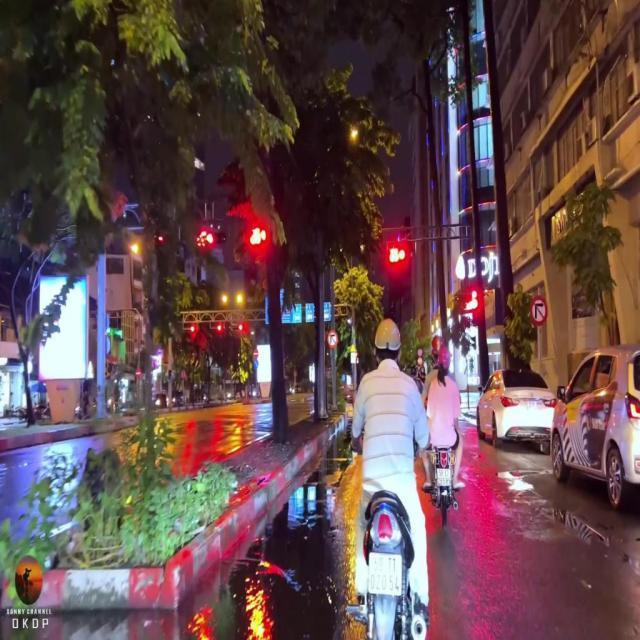102-cam-di-nguoc-chieu: (135, 368, 141, 378), (253, 350, 259, 358)
123b-cam-re-phai: (528, 296, 548, 326), (327, 331, 339, 349)
302a-huong-phai-di-vong-chuong-ngai-vat-1: (254, 359, 258, 369)
